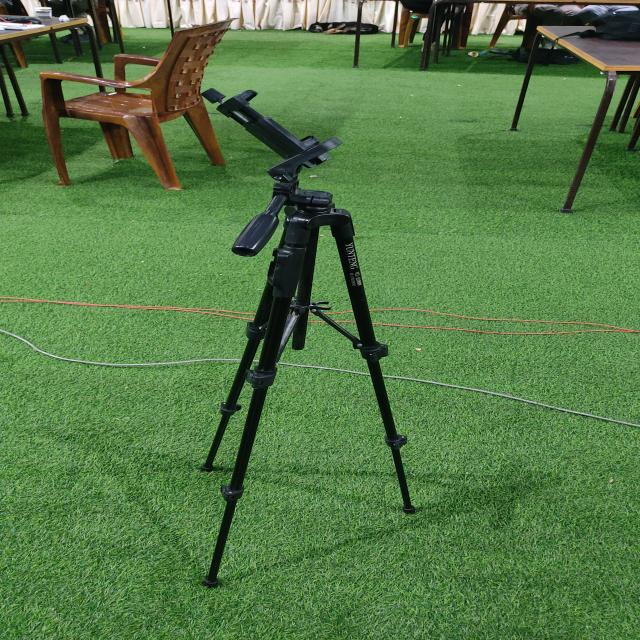Camer Stand: (184, 84, 428, 588)
